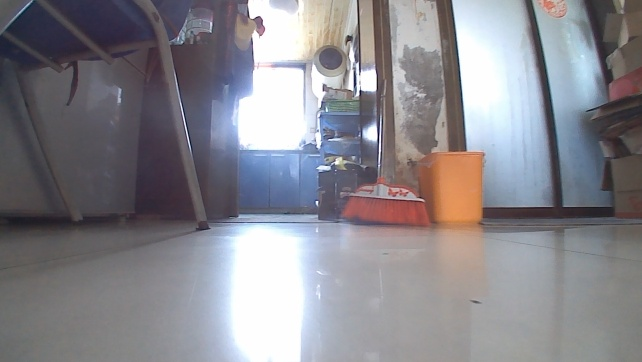cupboard: (236, 145, 325, 215)
refrigerator1: (0, 41, 154, 226)
